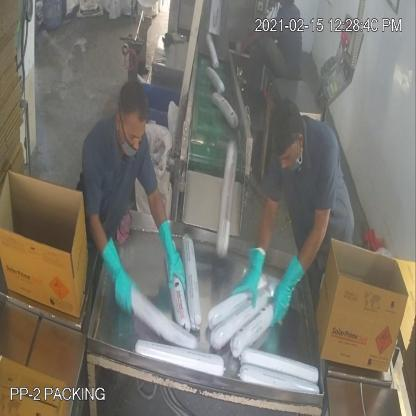glove: (268, 244, 309, 332), (101, 233, 142, 320), (155, 209, 191, 306), (229, 230, 266, 314)
